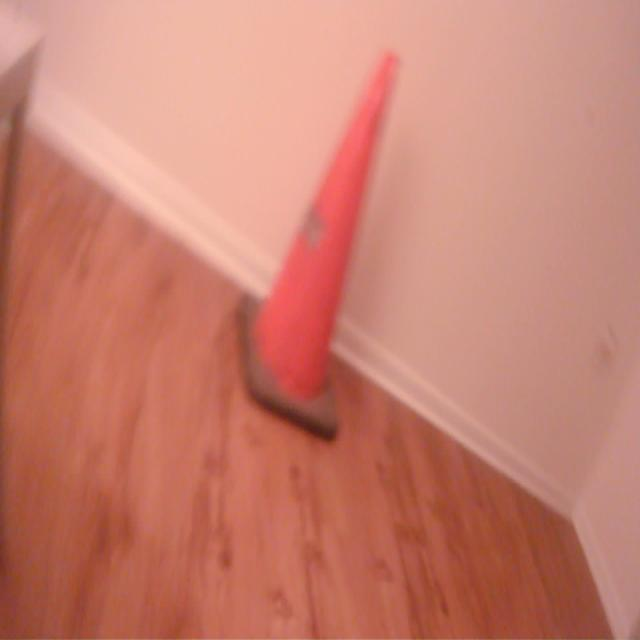traffic cone: (234, 47, 406, 448)
